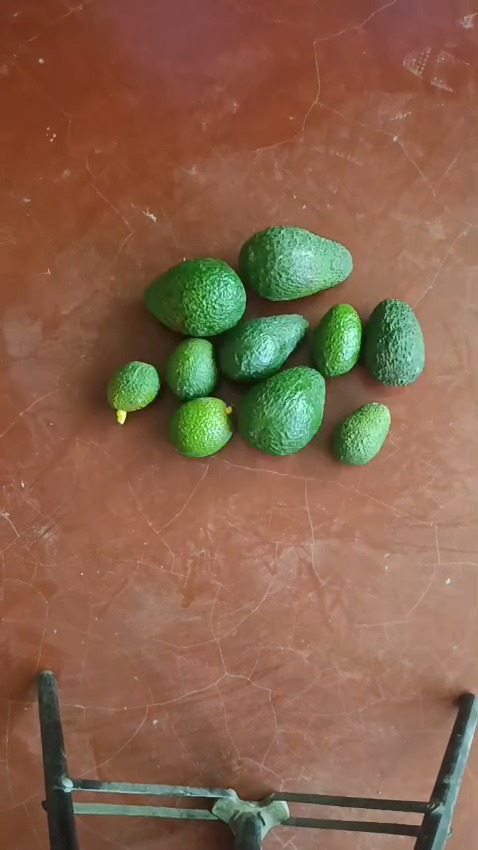Primera: (239, 225, 354, 301), (144, 257, 247, 337), (237, 366, 326, 454)
Segunda: (217, 314, 309, 383), (363, 298, 426, 386)
Tercera: (168, 397, 234, 457), (311, 302, 362, 378), (330, 401, 391, 464), (165, 338, 220, 400), (106, 360, 160, 419)
